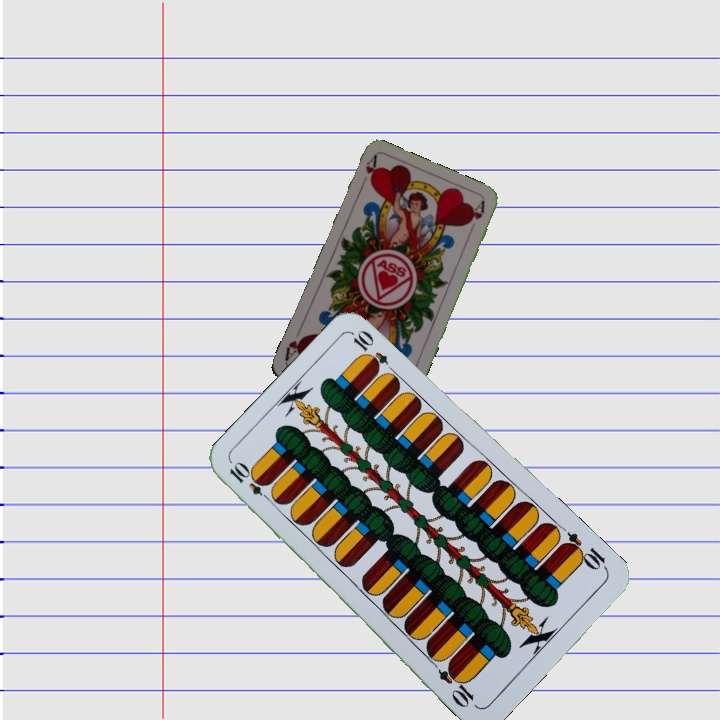E10: (557, 528, 610, 574), (225, 459, 276, 506)
HA: (356, 152, 379, 191)
